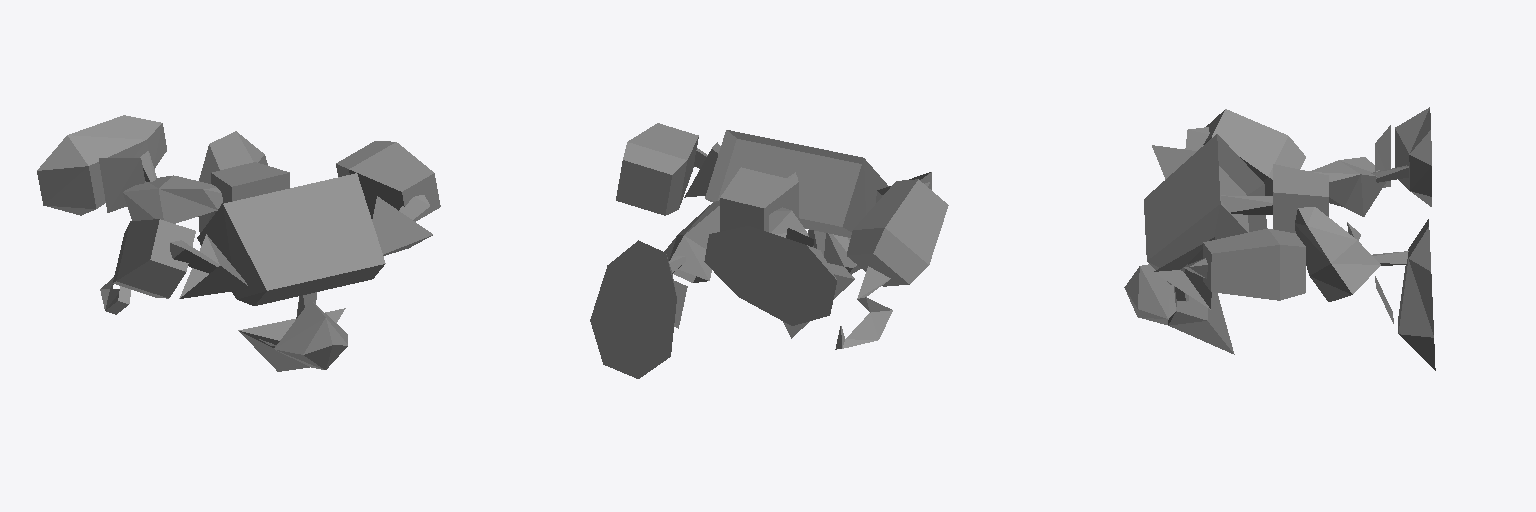
The model's file is Robo-Pirate.obj.
The picture shows the model from 3 angles: view 1: azimuth 30°, elevation 25°; view 2: azimuth 150°, elevation 25°; view 3: azimuth 270°, elevation 25°; orthographic projection.
Visible parts, largest first — view 1: Mesh_0011; view 2: Mesh_0011; view 3: Mesh_0011.
Part boxes in pixels (x1,y1,x2,y2): Mesh_0011: (37, 115, 440, 371); Mesh_0011: (590, 123, 948, 378); Mesh_0011: (1124, 107, 1435, 370).
Size of the model in its own units: 219 by 138 by 196.